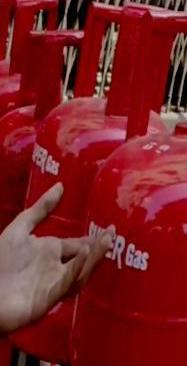cylinder: (1, 0, 187, 366)
